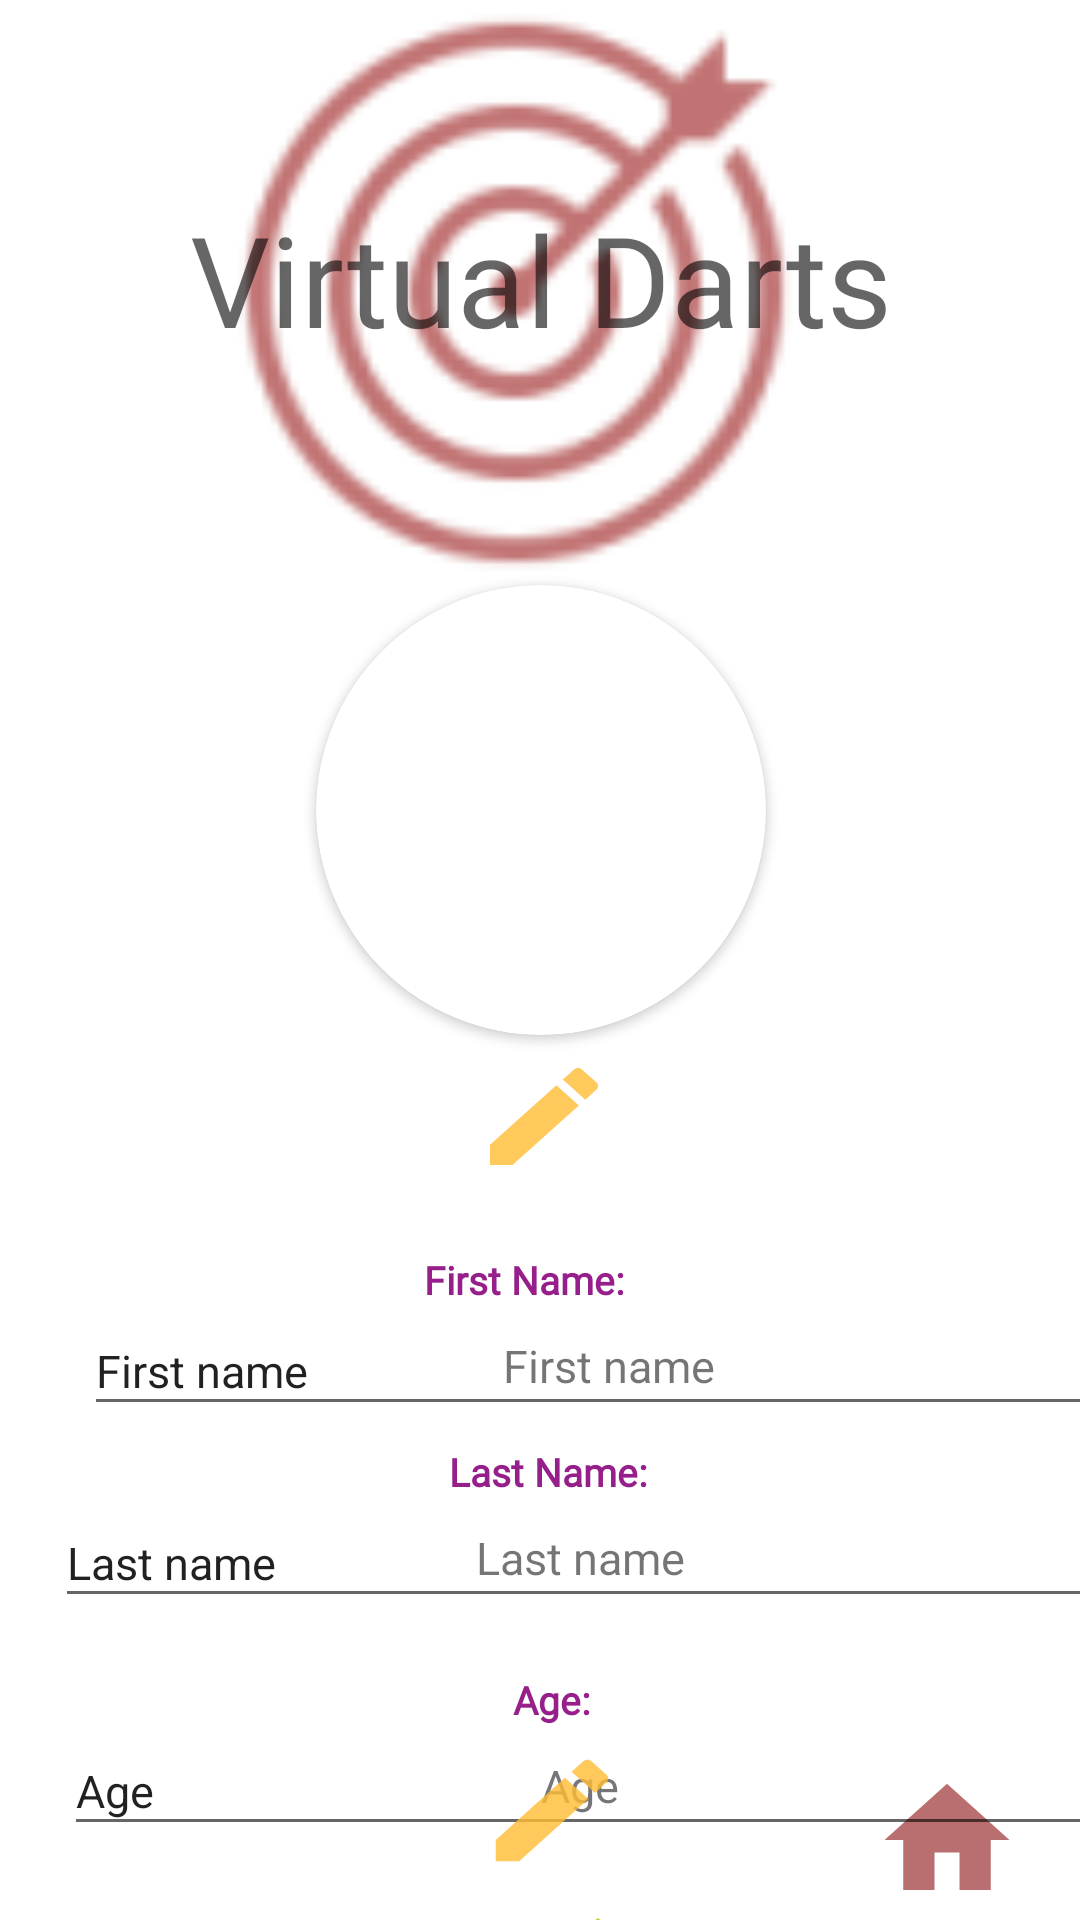

Where to tap for icons on this 1080*1920 app screen, as [x,y]:
home: [947,1837]
